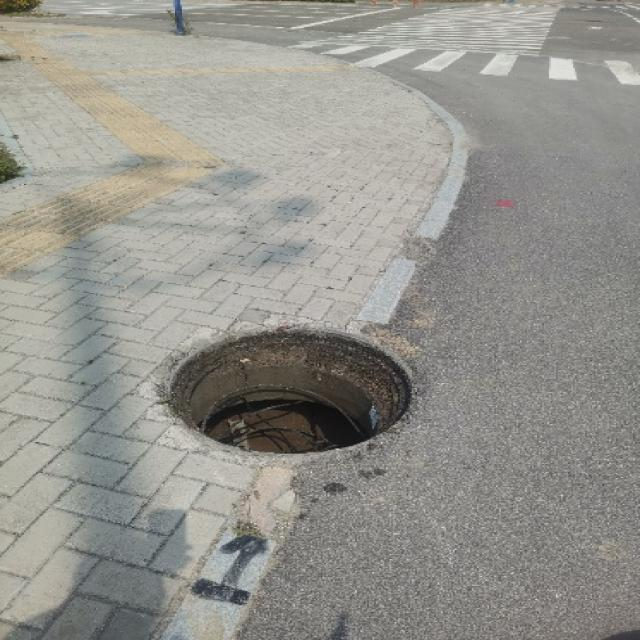Faulty: (154, 317, 436, 472)
